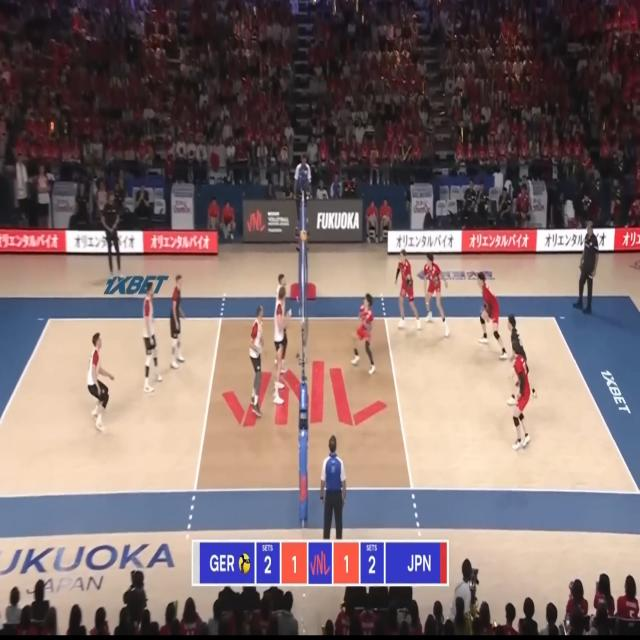ball: (300, 229, 307, 242)
